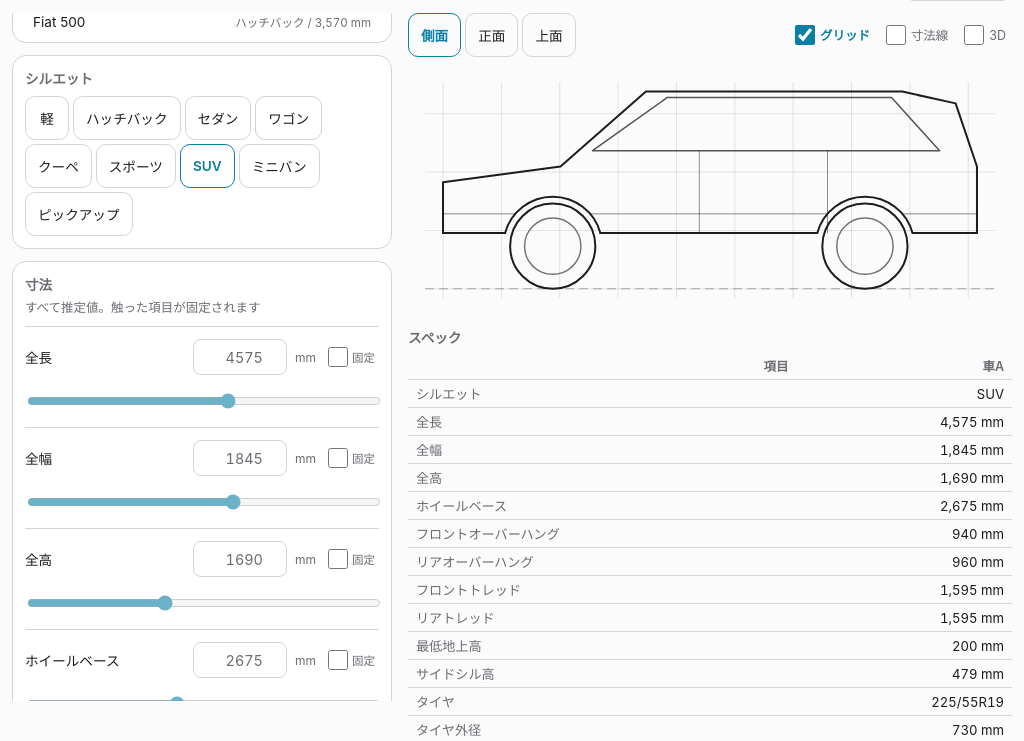
Scenario: App 寸法の変更とロック › 全長を変えると未ロックのホイールベースも追従する
(page scrolled)
Replace the text in the number field labelled "全長" with "5000" at (240, 357), box [193,339,287,375]
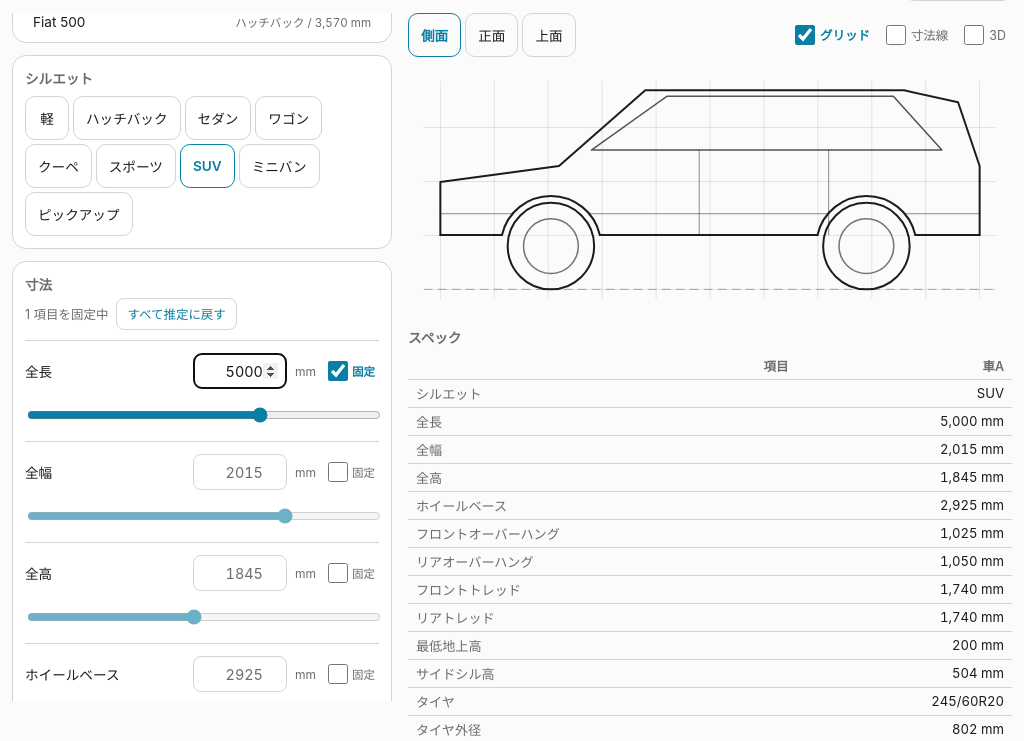
expect the number field labelled "ホイールベース" does not hold "2675": met, box [193,656,287,692]
